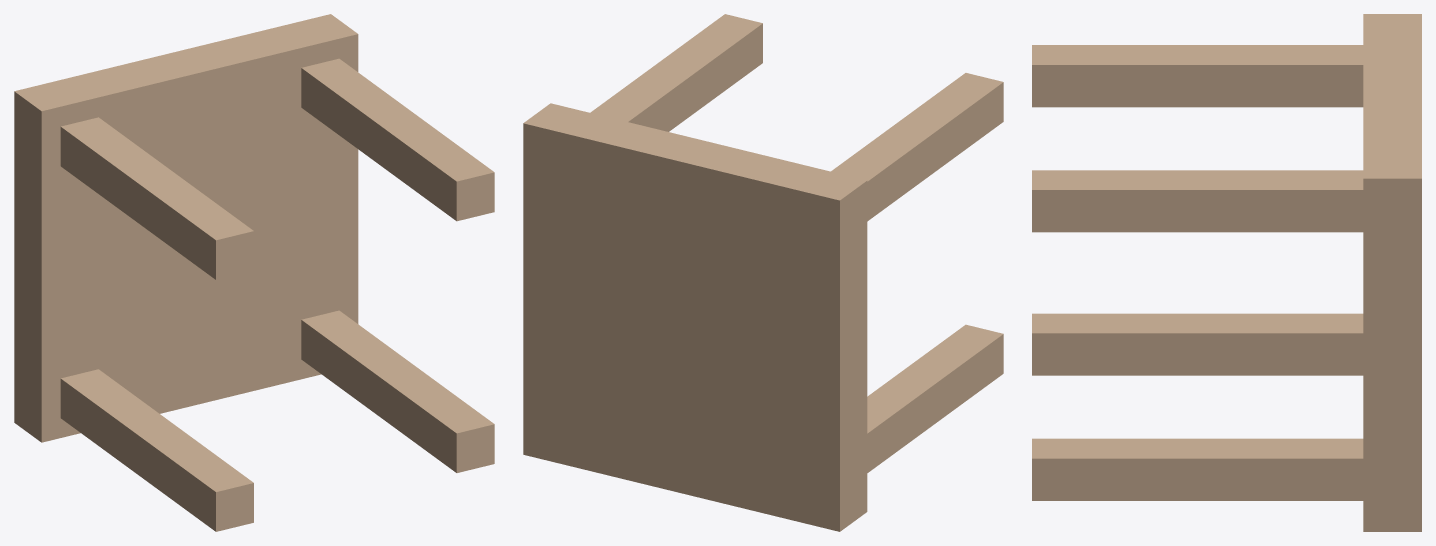
File: jungle_table_held.gltf
3 views of the same model, side by side, from view 1: azimuth 30°, elevation 25°; view 2: azimuth 150°, elevation 25°; view 3: azimuth 270°, elevation 25° (orthographic). The views are drawn at different scales.
Parts seen in each view (by area): view 1: building_jungle_table_held; view 2: building_jungle_table_held; view 3: building_jungle_table_held.
Boxes of the visible parts, x1,y1,x2,y2 form: building_jungle_table_held: [14, 14, 494, 531]; building_jungle_table_held: [523, 14, 1003, 531]; building_jungle_table_held: [1032, 14, 1421, 531].
Bounding box in the file's own units: 0.16 × 0.16 × 0.16.
